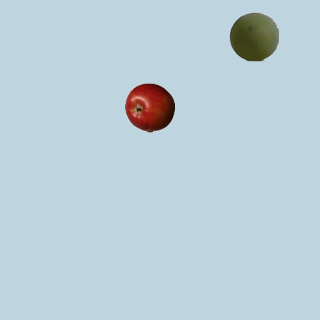Apple Braeburn: (124, 82, 174, 132)
Grape White 4: (228, 11, 278, 61)
